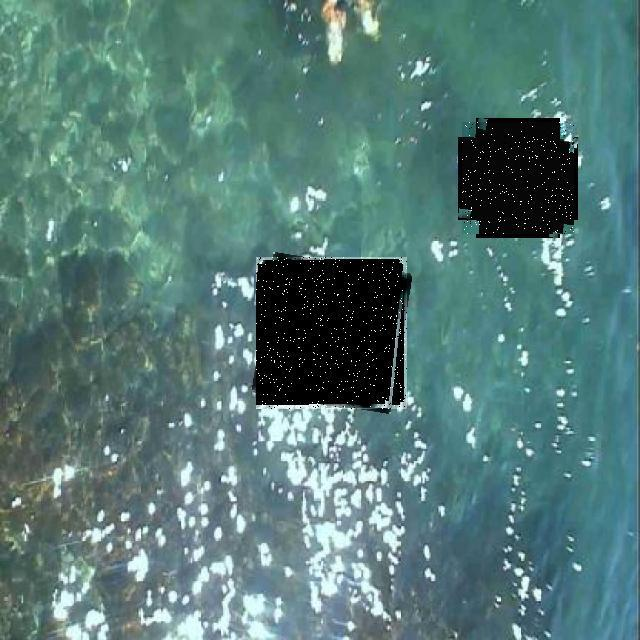swimming: (256, 257, 407, 409), (462, 122, 574, 234)
